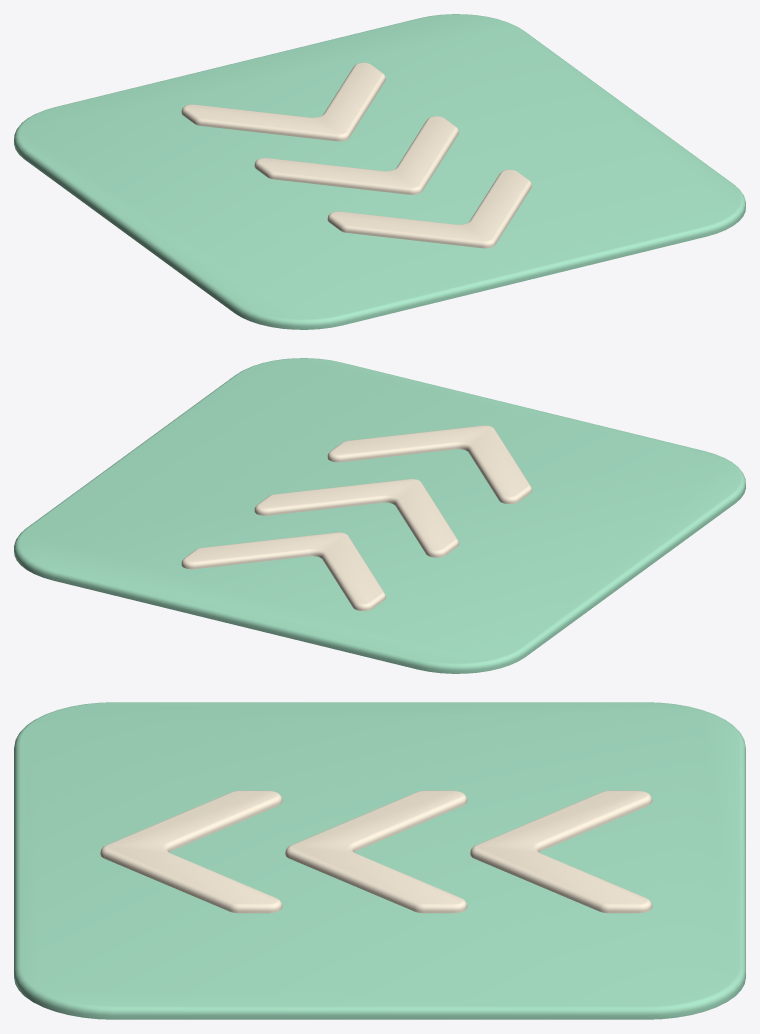
File: speed_arrow.glb
3 views of the same model, one above another, from view 1: azimuth 30°, elevation 25°; view 2: azimuth 150°, elevation 25°; view 3: azimuth 270°, elevation 25° (orthographic). The views are drawn at different scales.
Visible parts, largest first — view 1: speed_arrow; view 2: speed_arrow; view 3: speed_arrow.
Part boxes in pixels (left/top/right/bottom): speed_arrow: left=14, top=14, right=745, bottom=329; speed_arrow: left=14, top=358, right=745, bottom=673; speed_arrow: left=14, top=702, right=745, bottom=1019.
Size of the model in its own units: 1.9 by 0.05 by 1.9.
